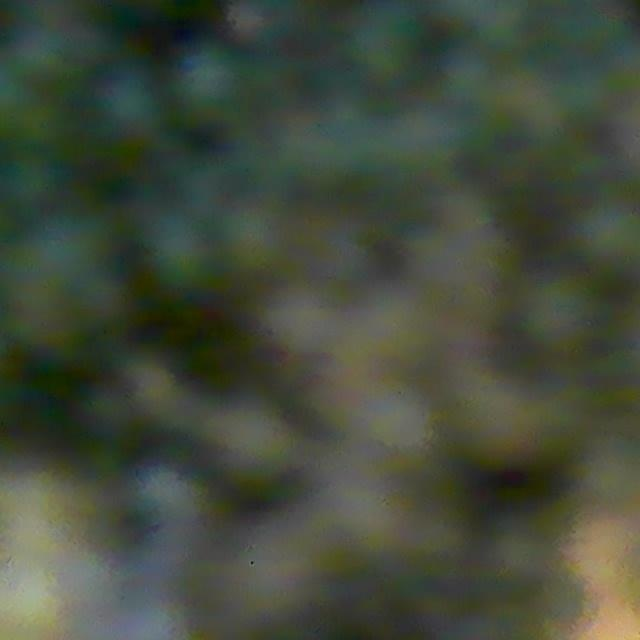SeaGrape: (521, 272, 599, 350), (142, 208, 215, 290), (353, 10, 436, 80), (92, 63, 162, 139), (218, 201, 290, 274), (173, 43, 243, 118), (464, 5, 548, 67), (573, 196, 640, 269), (44, 216, 109, 289), (224, 0, 310, 52), (567, 14, 640, 73), (7, 140, 63, 213), (23, 22, 74, 81)
